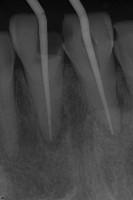Furcation Involvement: (44, 105, 68, 152)
